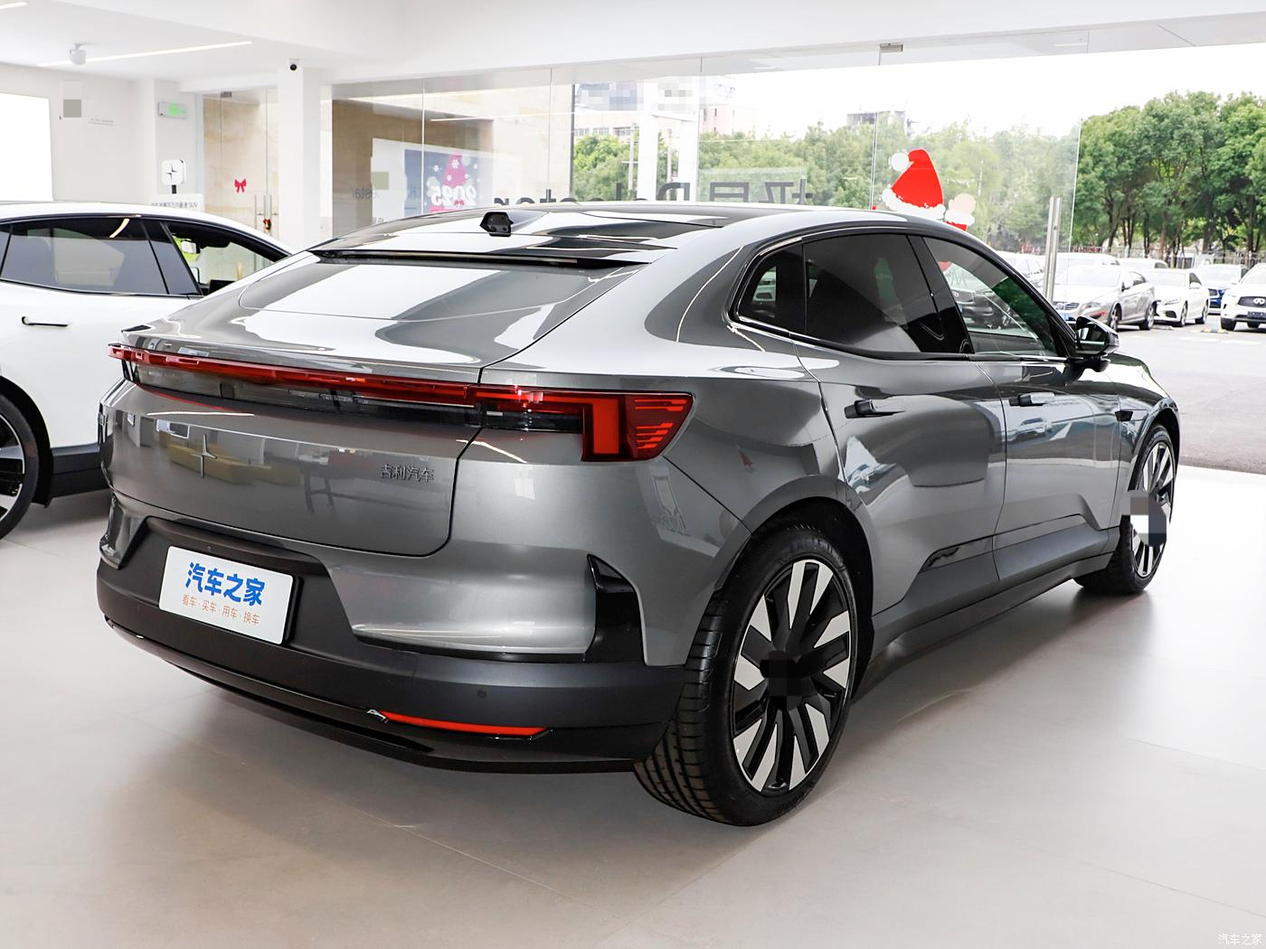Polestar: (192, 435, 216, 476)
